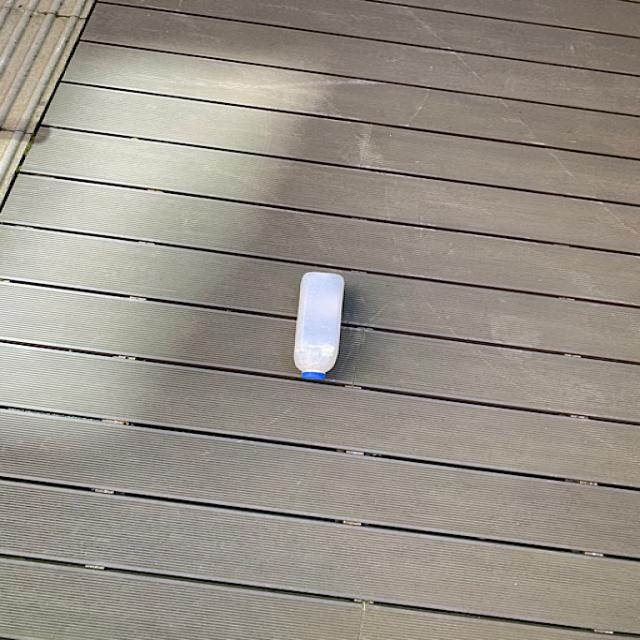litter: (290, 270, 346, 380)
